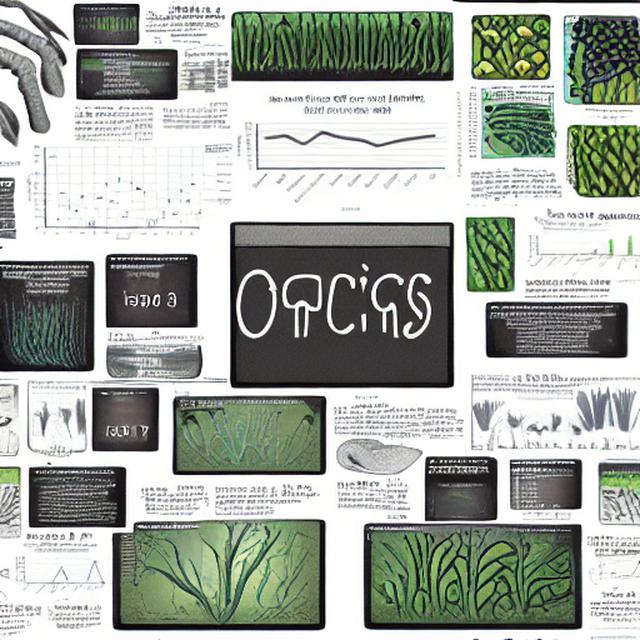Graph: (232, 90, 447, 214), (26, 136, 204, 244), (13, 542, 110, 602), (526, 221, 617, 274), (428, 482, 494, 521), (84, 5, 139, 45)
